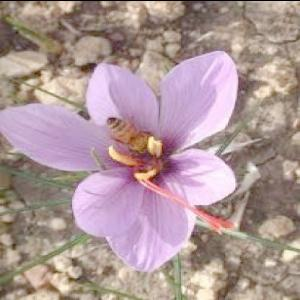Saffron: (0, 47, 237, 268)
